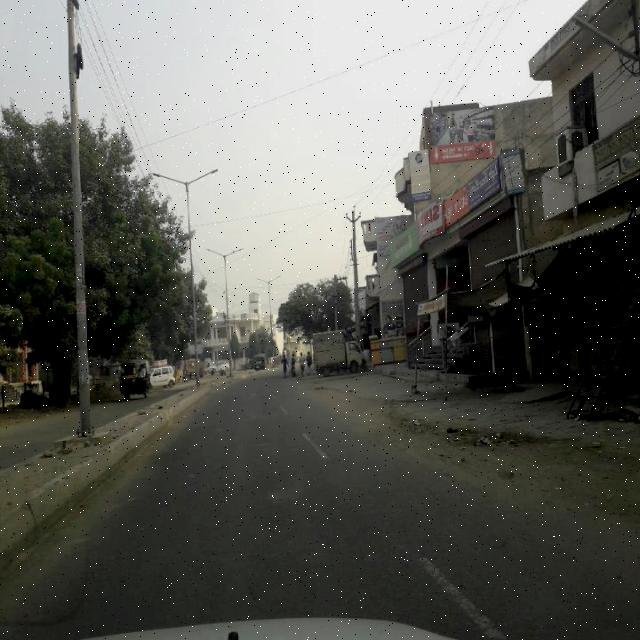D44: (420, 554, 506, 637), (293, 421, 337, 466)
